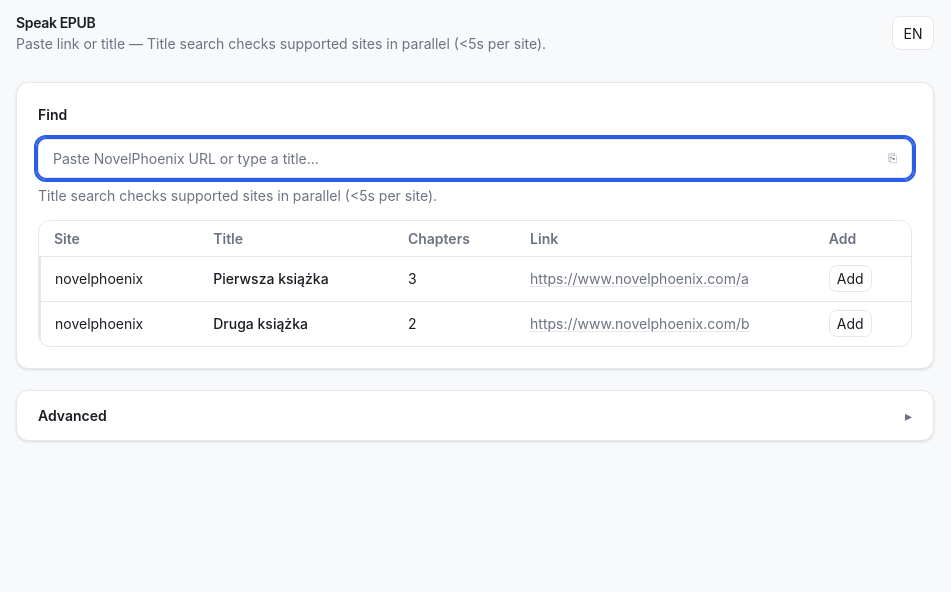
Scenario: App — batch queue › adds a novel from the results table to the queue
Click the button with test id "queue-add-0": x=850, y=279 [829,265,872,292]
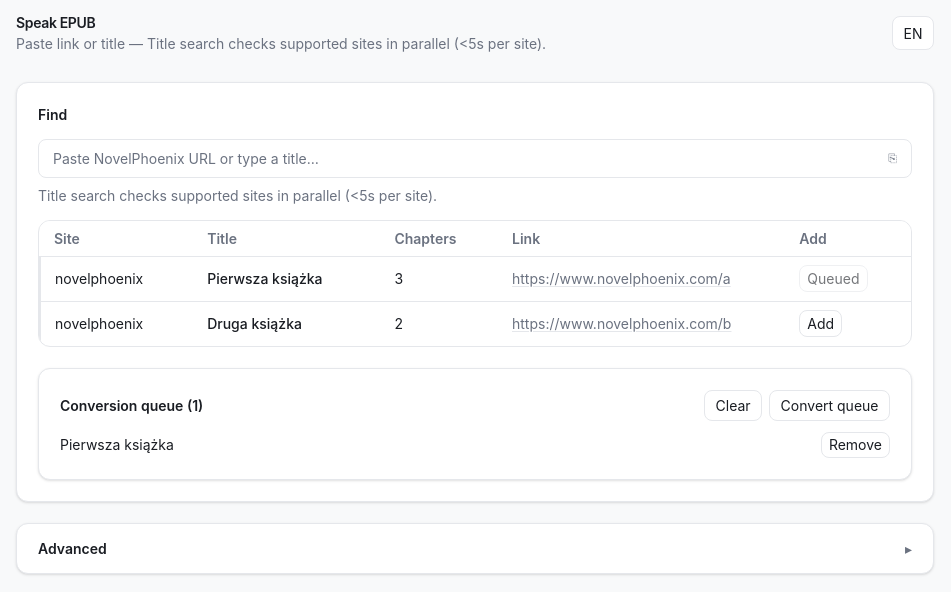
Check: the element with test id "queue-panel" is shown, box [38,368,912,480]
Check: the list item with test id "queue-item-https://www.novelphoenix.com/a" is shown, box [60,432,890,458]
